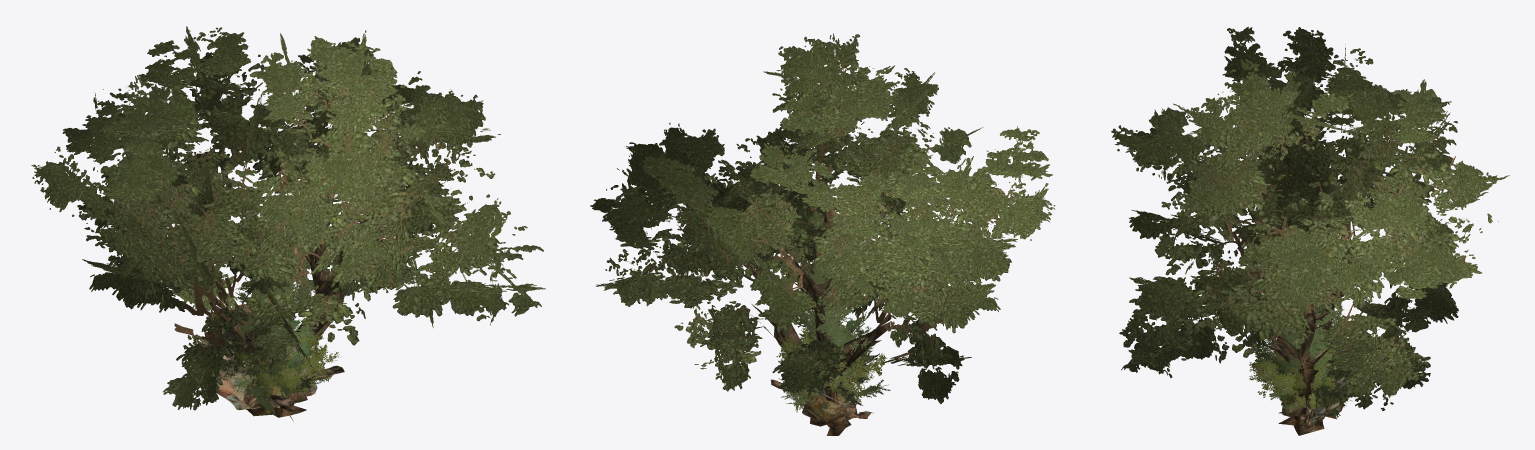
3 renders of one model, left to right at view 1: azimuth 30°, elevation 25°; view 2: azimuth 150°, elevation 25°; view 3: azimuth 270°, elevation 25°, orthographic. The views are drawn at different scales.
Parts seen in each view (by area): view 1: laub4_krone, tanne1_krone, laub1_krone, felswand_m0, laub4_m0, laub2_krone, kahl1_m0, tanne2_krone, laub5_krone; view 2: laub4_krone, tanne1_krone, kahl1_m0, laub4_m0, laub2_krone, tanne2_krone, laub1_krone, moosfels2_m0; view 3: laub4_krone, laub4_m0, laub2_krone, tanne1_krone, laub1_krone, kahl1_m0, laub5_krone, tanne2_krone, laub3_krone.
Part boxes in pixels (left/top/right/bottom): laub4_krone: left=31, top=26, right=545, bottom=410; tanne1_krone: left=221, top=262, right=326, bottom=412; laub1_krone: left=236, top=340, right=341, bottom=394; felswand_m0: left=201, top=301, right=317, bottom=410; laub4_m0: left=211, top=212, right=344, bottom=421; laub2_krone: left=224, top=290, right=325, bottom=388; kahl1_m0: left=209, top=213, right=373, bottom=411; tanne2_krone: left=230, top=279, right=320, bottom=398; laub5_krone: left=251, top=316, right=314, bottom=372; laub4_krone: left=590, top=33, right=1055, bottom=403; tanne1_krone: left=778, top=260, right=890, bottom=416; kahl1_m0: left=743, top=210, right=891, bottom=427; laub4_m0: left=744, top=213, right=890, bottom=435; laub2_krone: left=776, top=328, right=865, bottom=403; tanne2_krone: left=786, top=278, right=869, bottom=412; laub1_krone: left=831, top=349, right=887, bottom=392; moosfels2_m0: left=806, top=395, right=846, bottom=422; laub4_krone: left=1111, top=26, right=1509, bottom=410; laub4_m0: left=1252, top=263, right=1349, bottom=435; laub2_krone: left=1267, top=334, right=1352, bottom=410; tanne1_krone: left=1255, top=290, right=1351, bottom=412; laub1_krone: left=1249, top=349, right=1328, bottom=397; kahl1_m0: left=1254, top=232, right=1370, bottom=424; laub5_krone: left=1251, top=334, right=1334, bottom=387; tanne2_krone: left=1269, top=306, right=1346, bottom=417; laub3_krone: left=1279, top=375, right=1335, bottom=410.
Size of the model in its own units: 25.4 by 20.07 by 20.53.
54 materials, 54 textured.
